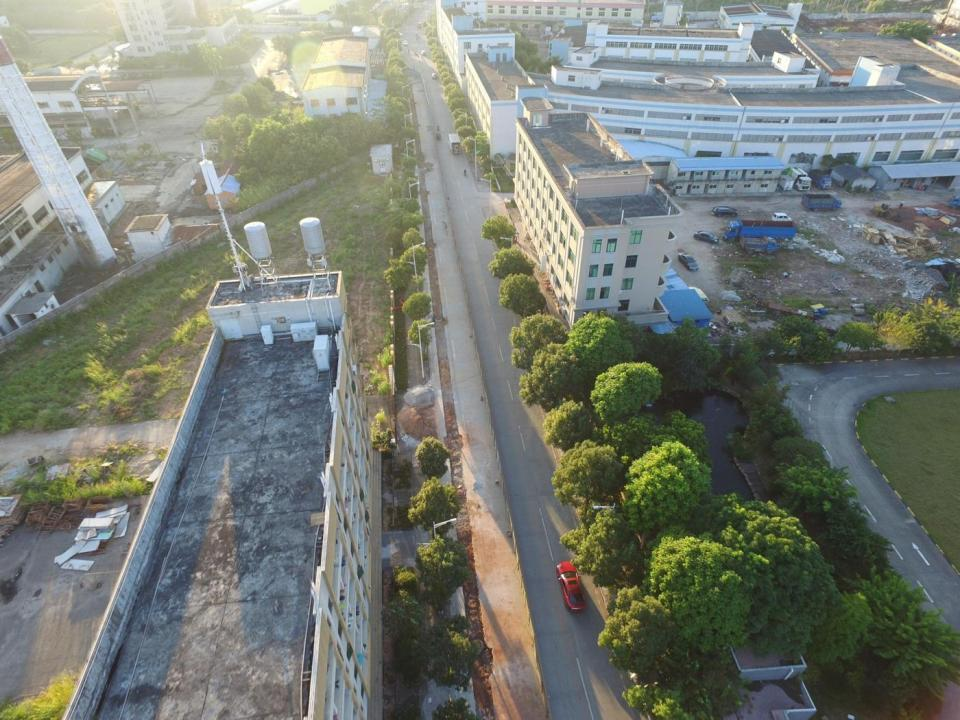car: (556, 561, 587, 614), (687, 285, 709, 305), (679, 251, 699, 272), (693, 230, 720, 245), (712, 206, 740, 216), (430, 72, 438, 80), (421, 49, 427, 57), (403, 40, 408, 46)
truck: (723, 219, 797, 244), (738, 234, 780, 254), (801, 194, 845, 212), (786, 166, 810, 191), (806, 169, 832, 191), (773, 169, 795, 192), (446, 132, 462, 155), (949, 195, 960, 209)
van: (772, 212, 792, 223)
